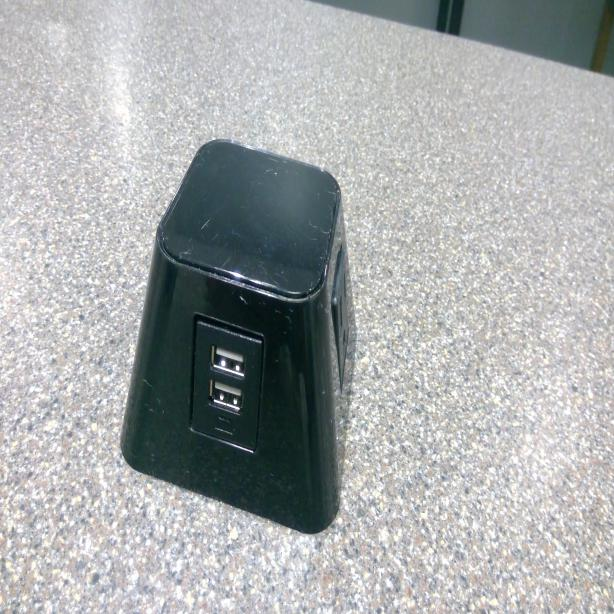typeb: (335, 268, 350, 353)
